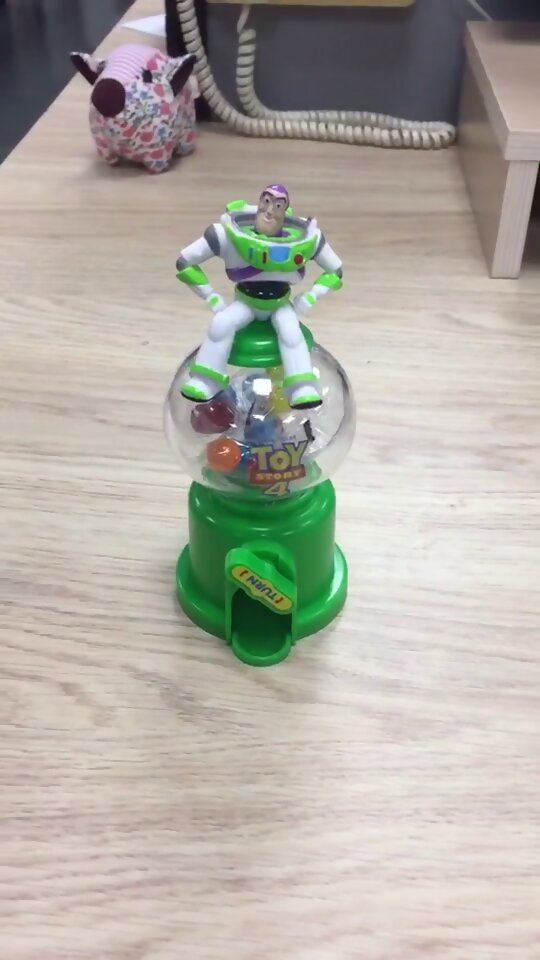buzz: (163, 177, 359, 664)
